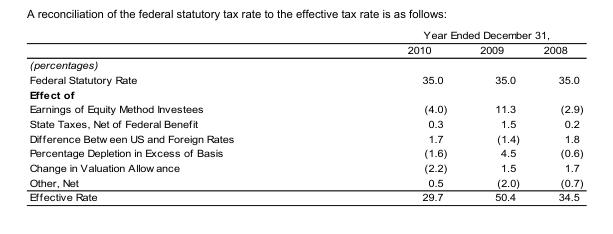table: (28, 29, 582, 202)
table column: (28, 29, 319, 202), (319, 29, 462, 202), (462, 29, 530, 202), (530, 29, 582, 202)
table column header: (28, 29, 582, 57)
table projected row header: (28, 86, 582, 101), (28, 57, 582, 71)
table row: (28, 42, 582, 57), (28, 71, 582, 86), (28, 86, 582, 101), (28, 115, 582, 130), (28, 130, 582, 145), (28, 145, 582, 160), (28, 174, 582, 189), (28, 57, 582, 71), (28, 101, 582, 115), (28, 160, 582, 174), (28, 29, 582, 42), (28, 189, 582, 202)
table spanning cell: (319, 29, 582, 42)
